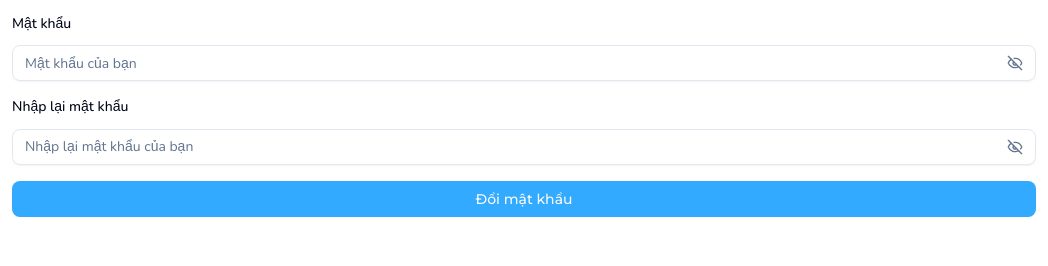
Test: FormChangePassword › shows validation error when passwords do not match
Type "123456" into the password field labelled "Mật khẩu". click: (510, 63)
box: [13, 45, 1007, 81]
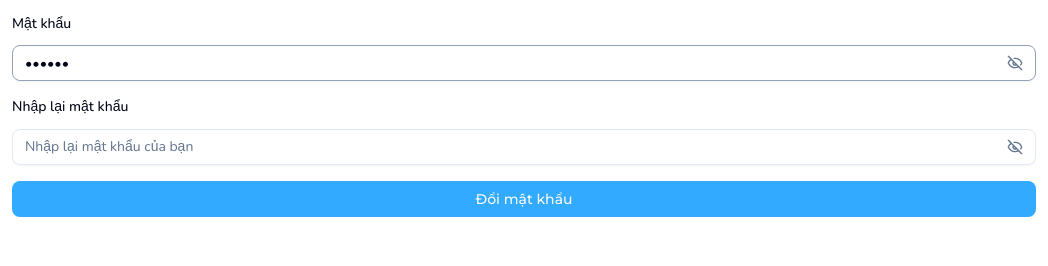
Type "different" into the password field labelled "Nhập lại mật khẩu". click: (510, 146)
box: [13, 128, 1007, 164]
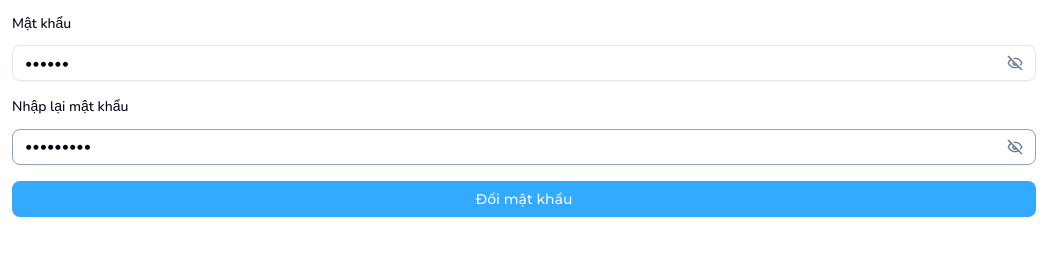
Click the button "Đổi mật khẩu". click: (524, 198)
box: [12, 180, 1036, 216]
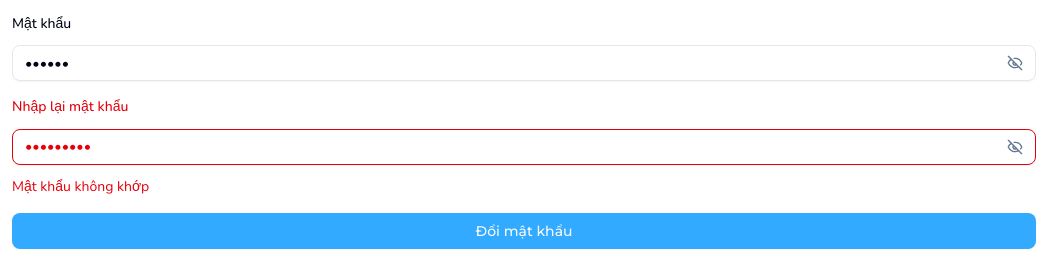
Now the text "Mật khẩu không khớp" is shown, box [12, 176, 149, 196]
